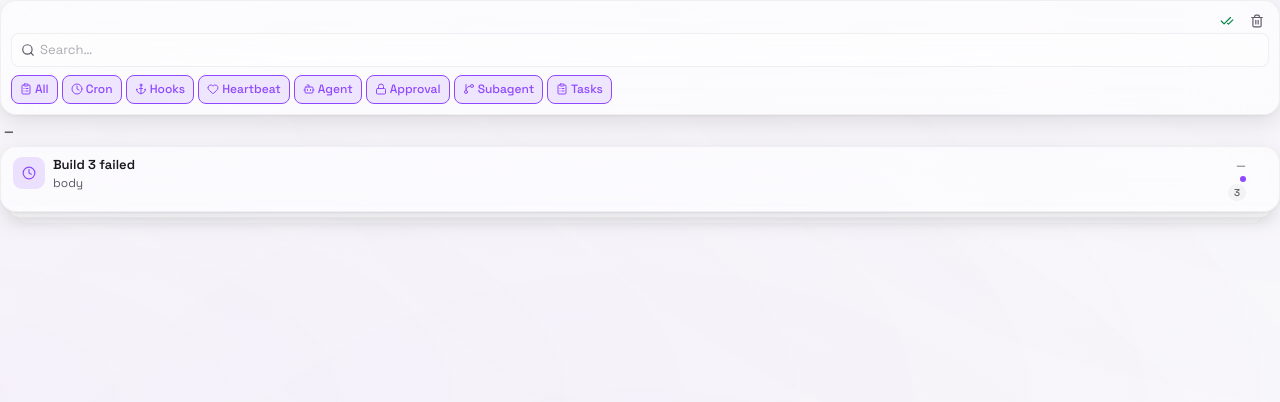
Test case: NotificationFeed Phase 4: mac deck stacking (macOS NC style) › collapsed mac stack has no pill -- clicking the head expands it
Click the button with aria-label "Expand 3 grouped notifications".
click(29, 173)  # box [13,157,1246,201]
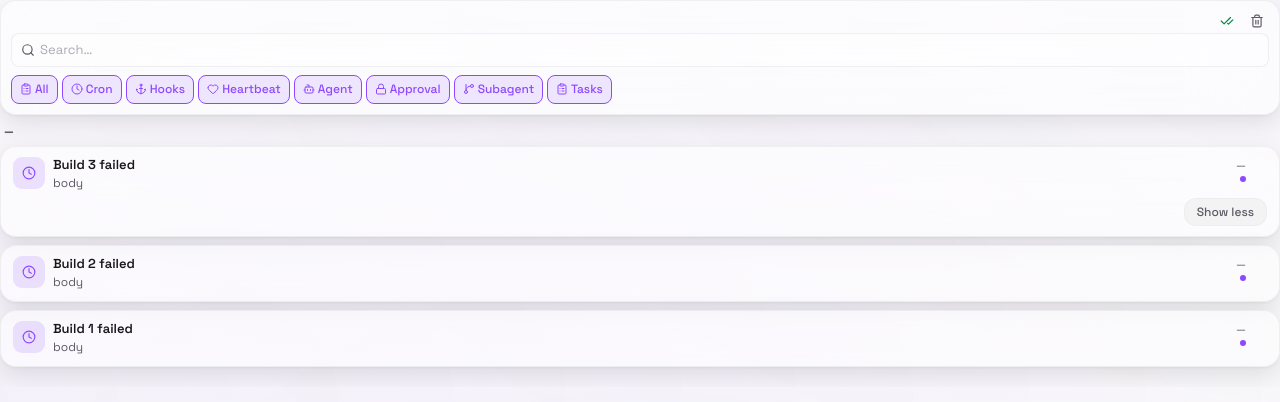
expect the text "Build 2 failed" is shown: met, box [53,255,135,272]
expect the text "Build 1 failed" is shown: met, box [53,320,133,337]
